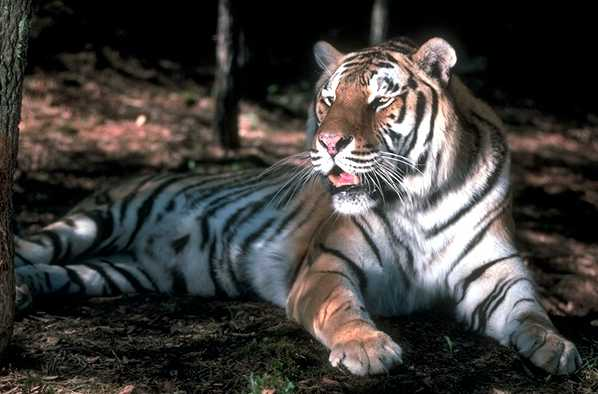Tigre: (84, 51, 561, 373)
